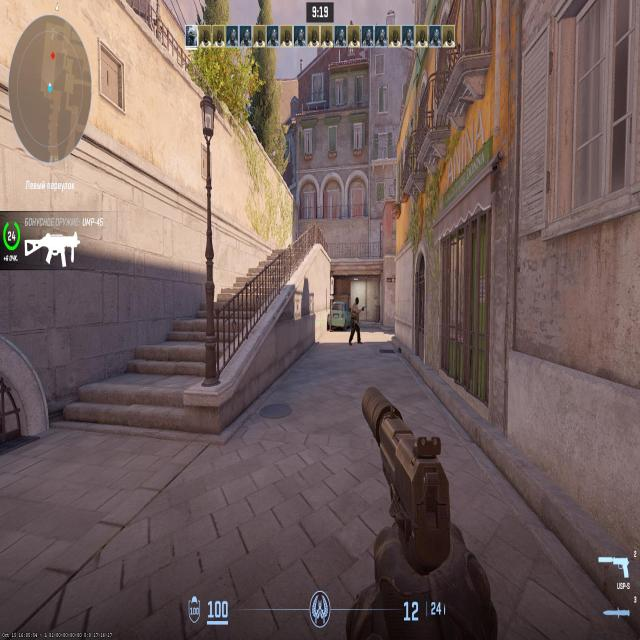T: (352, 296, 359, 338)
T_heat: (353, 298, 358, 306)
